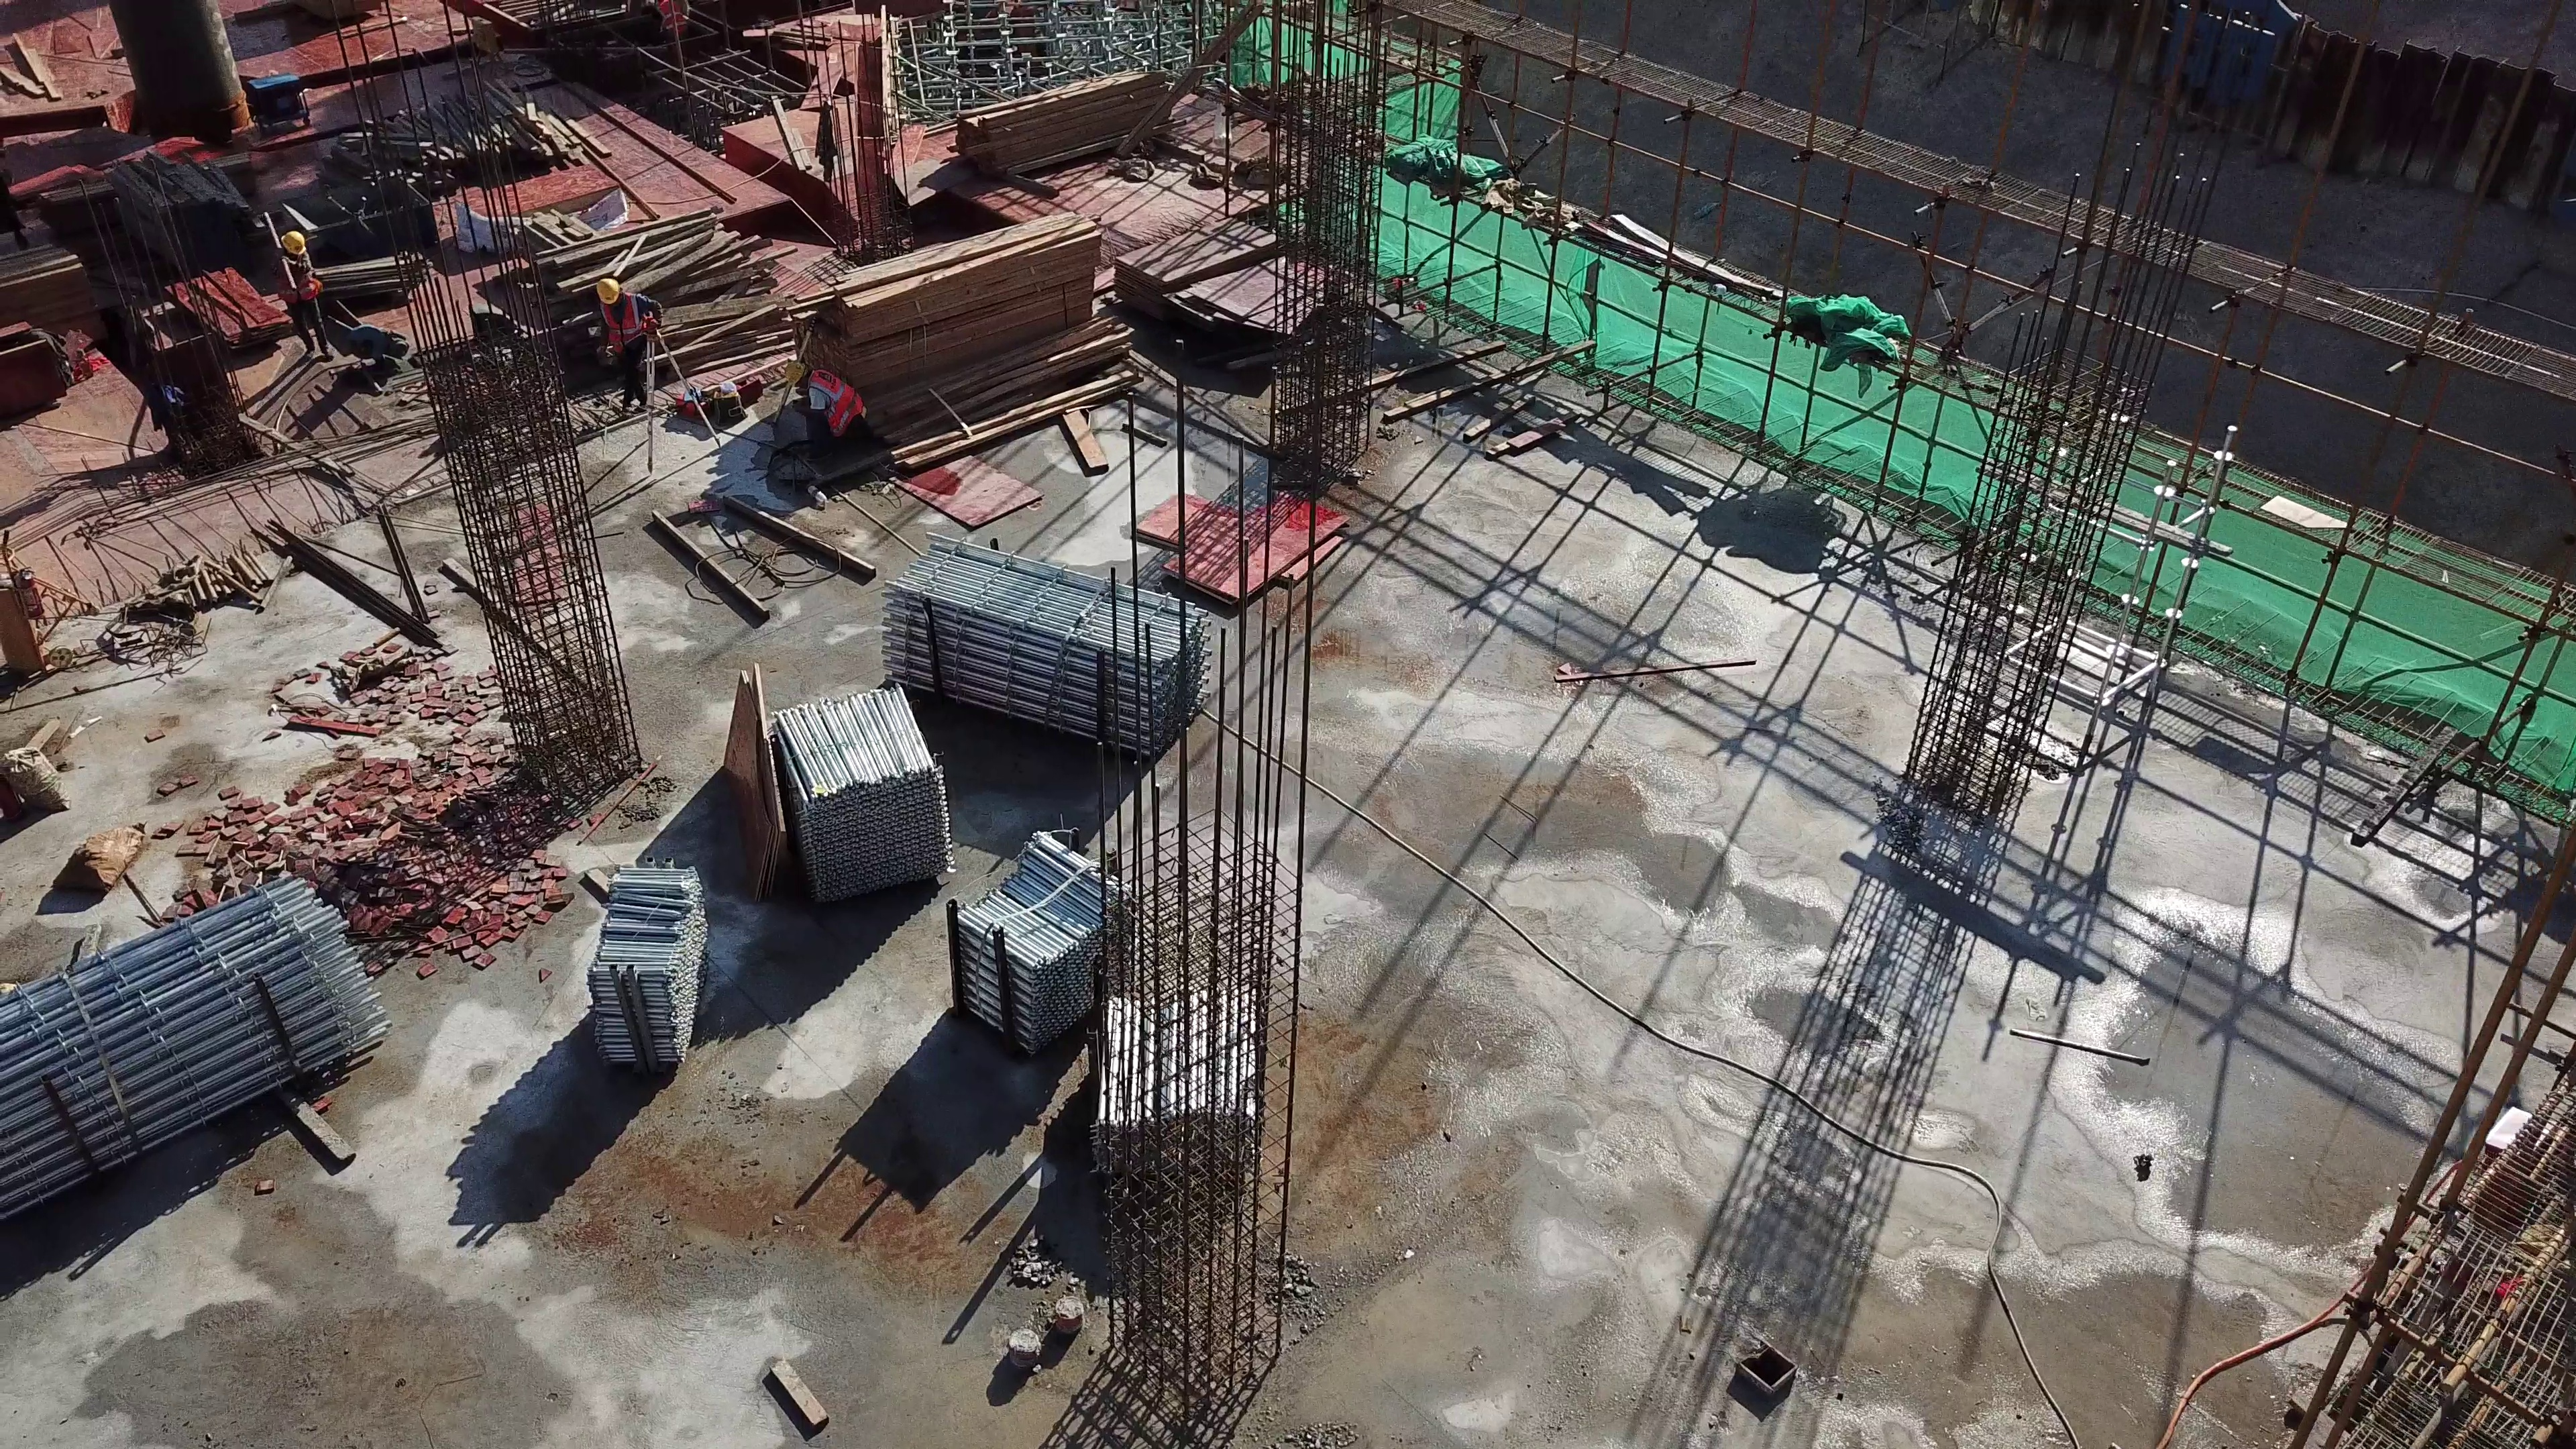board: (470, 158, 607, 231)
cutter: (352, 320, 409, 376)
ebox: (468, 8, 496, 60)
helmet: (280, 231, 306, 258), (597, 274, 616, 306), (788, 360, 804, 386)
hopper: (280, 189, 433, 256)
person: (598, 276, 662, 415), (788, 362, 871, 450), (275, 231, 329, 365), (658, 1, 686, 39)
scaffold: (5, 877, 388, 1222), (878, 535, 1205, 741), (770, 686, 951, 903), (1097, 987, 1262, 1189), (951, 845, 1116, 1043), (579, 861, 707, 1067)
vest: (808, 367, 860, 430), (277, 256, 316, 302), (605, 297, 639, 347), (659, 1, 684, 36)
wood: (839, 216, 1100, 379), (958, 66, 1158, 174), (5, 235, 95, 301)
